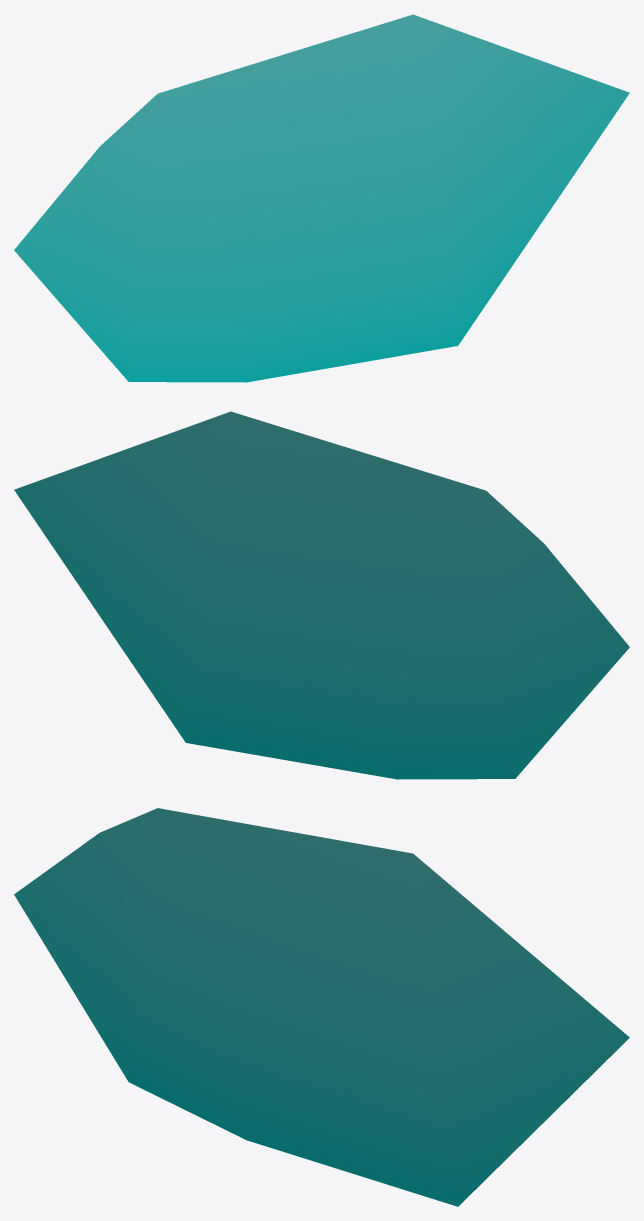
File: Fern_sbslY_High_sbslY_VarC_LOD2.fbx
The picture shows the model from 3 angles, top to bottom: view 1: azimuth 30°, elevation 25°; view 2: azimuth 150°, elevation 25°; view 3: azimuth 330°, elevation 25°; orthographic projection.
Parts seen in each view (by area): view 1: _134a_VarC_LOD3; view 2: _134a_VarC_LOD3; view 3: _134a_VarC_LOD3.
Part boxes in pixels (<box>): _134a_VarC_LOD3: <box>14,14,629,382</box>; _134a_VarC_LOD3: <box>14,411,629,779</box>; _134a_VarC_LOD3: <box>14,808,629,1206</box>.
Size of the model in its own units: 164 by 86.92 by 0.
